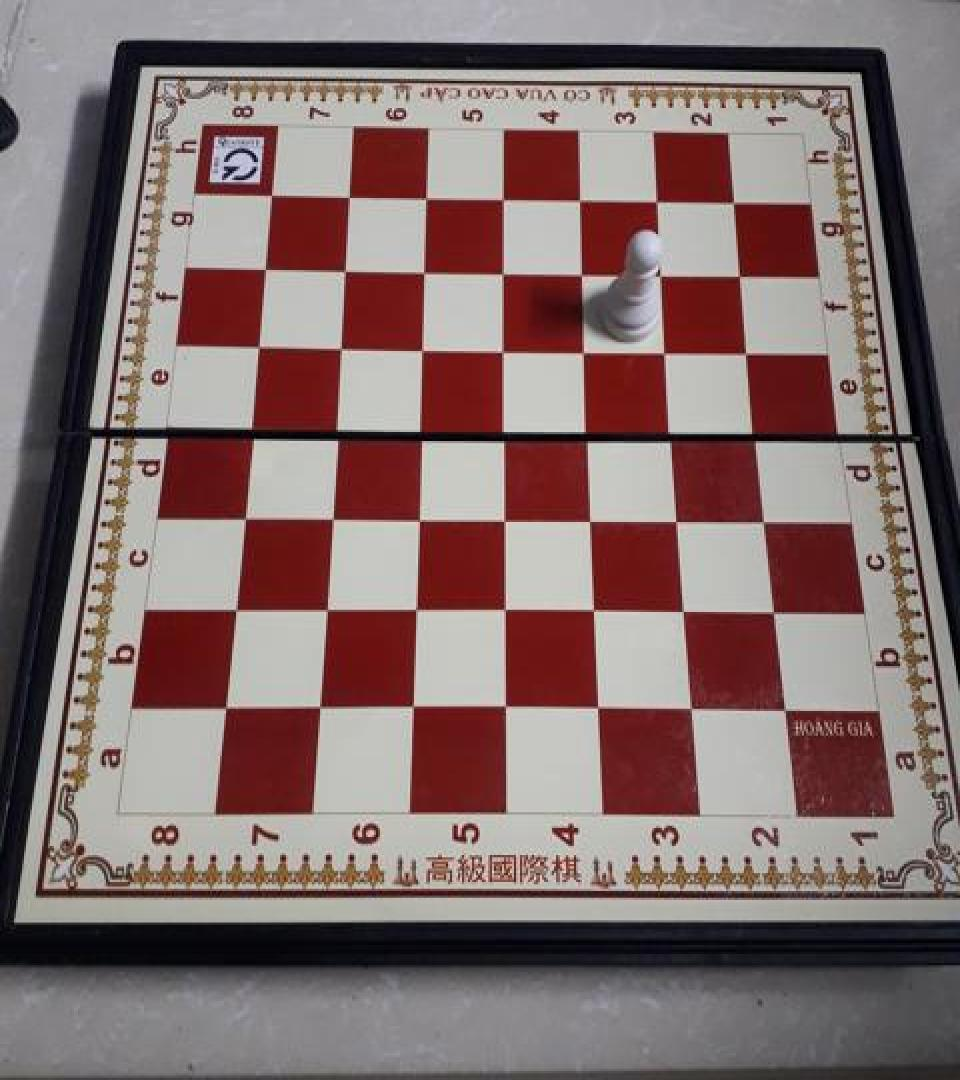xcorner: (585, 688, 617, 725), (678, 689, 710, 726), (770, 689, 802, 726), (401, 588, 433, 625), (492, 588, 524, 625), (210, 685, 242, 721), (305, 686, 337, 722), (398, 688, 430, 724), (492, 688, 524, 724), (220, 586, 252, 622), (311, 587, 343, 623), (582, 590, 614, 626), (671, 590, 703, 626), (760, 592, 792, 628), (228, 493, 260, 529), (316, 494, 348, 530), (404, 495, 436, 531), (491, 496, 523, 532), (578, 497, 610, 533), (665, 498, 697, 534), (751, 500, 783, 536), (237, 406, 269, 442), (322, 407, 354, 443), (407, 408, 439, 444), (491, 410, 523, 446), (575, 410, 607, 446), (659, 412, 691, 448), (743, 414, 775, 450), (244, 325, 276, 361), (327, 326, 359, 362), (409, 328, 441, 364), (572, 330, 604, 366), (654, 332, 686, 368), (735, 333, 767, 369), (251, 248, 283, 284), (331, 250, 363, 286), (411, 251, 443, 287), (490, 252, 522, 288), (570, 254, 602, 290), (648, 256, 680, 292), (727, 256, 759, 292), (258, 176, 290, 212), (336, 178, 368, 214), (413, 179, 445, 215), (490, 181, 522, 217), (567, 182, 599, 218), (644, 184, 676, 220), (491, 329, 523, 364), (720, 186, 752, 221)
